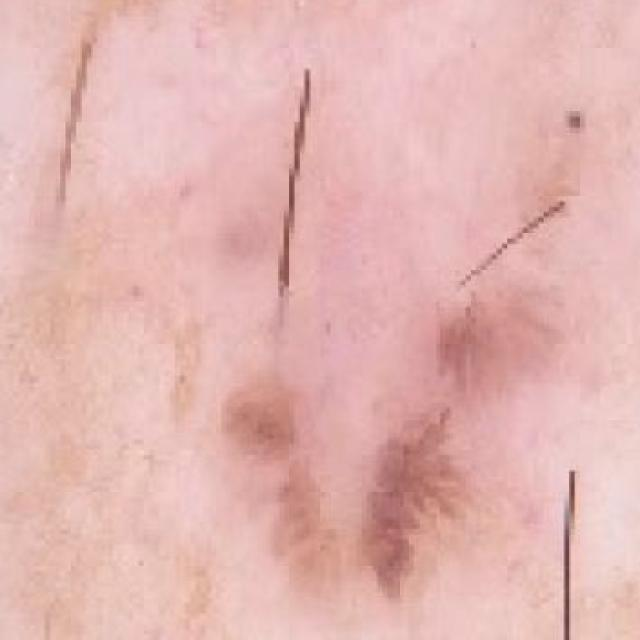BCC: (189, 255, 577, 619)
